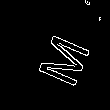M_NW: (23, 24, 87, 86)
